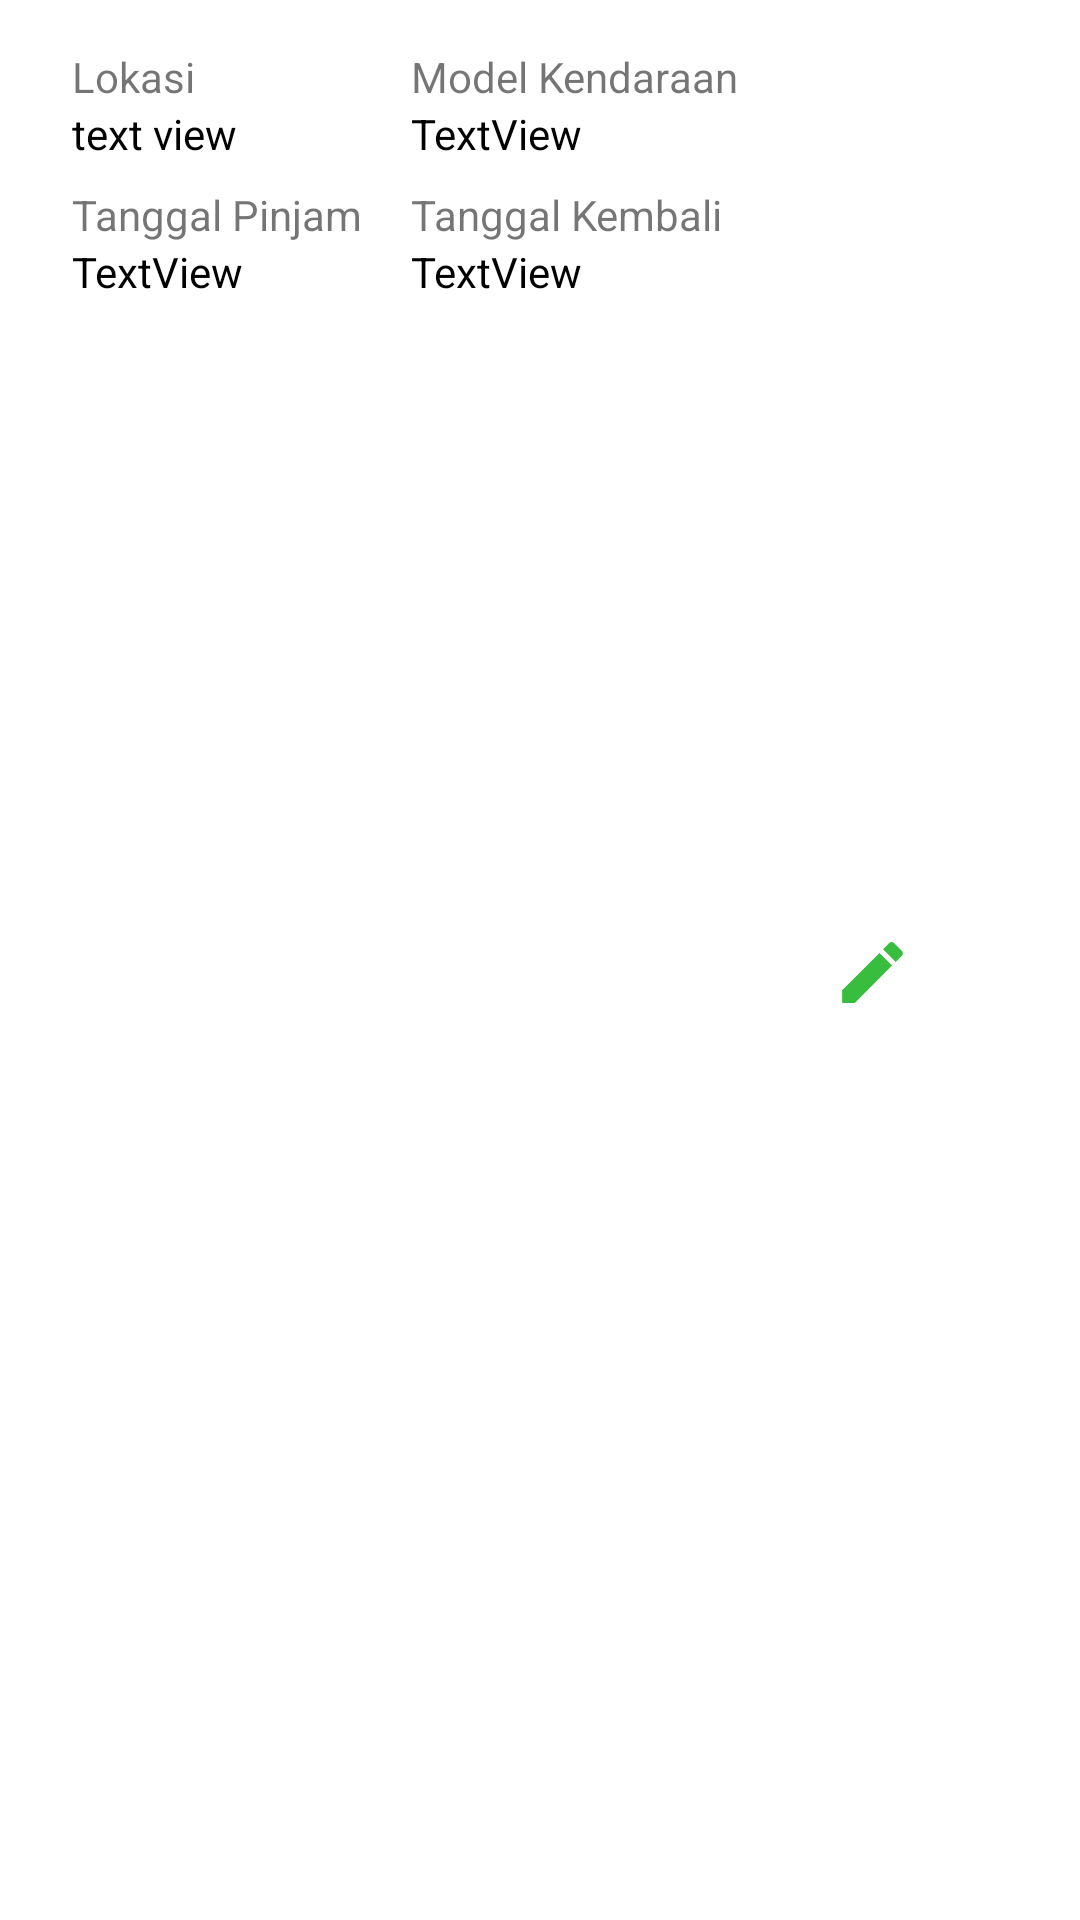

Point at icon controls on the screen. Image size 1080*1920, points as [x,y].
edit: [872,972]
